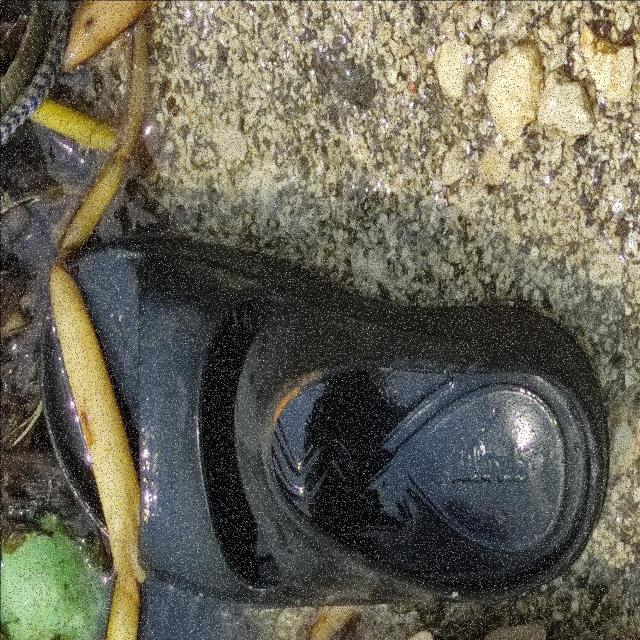rubber_waste: (37, 240, 611, 608)
